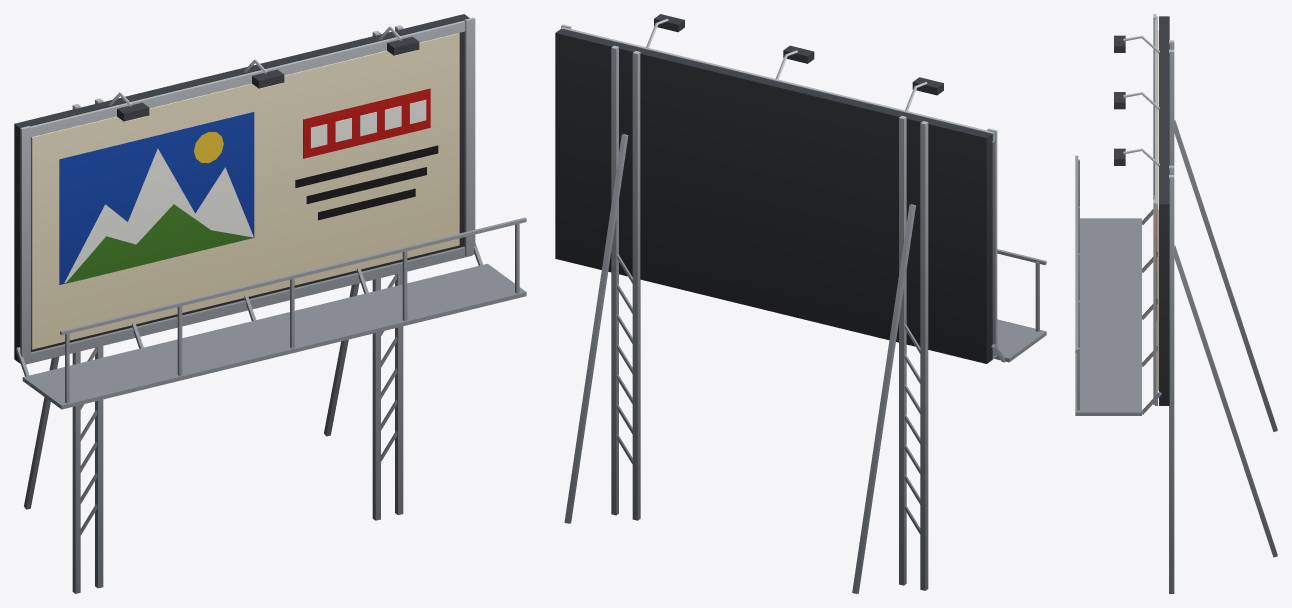
File: Billboard.fbx
The picture shows the model from 3 angles, left to right: view 1: azimuth 30°, elevation 25°; view 2: azimuth 150°, elevation 25°; view 3: azimuth 270°, elevation 25°; orthographic projection. The views are drawn at different scales.
Visible parts, largest first — view 1: Billboard_LOD0; view 2: Billboard_LOD0; view 3: Billboard_LOD0.
Part boxes in pixels (x1,y1,x2,y2): Billboard_LOD0: (14, 14, 526, 593); Billboard_LOD0: (555, 14, 1046, 593); Billboard_LOD0: (1075, 14, 1277, 593).
Size of what is drawn, in the model's own units: 6.2 by 6.45 by 2.73.
Materials: 1 (1 with a texture image).
